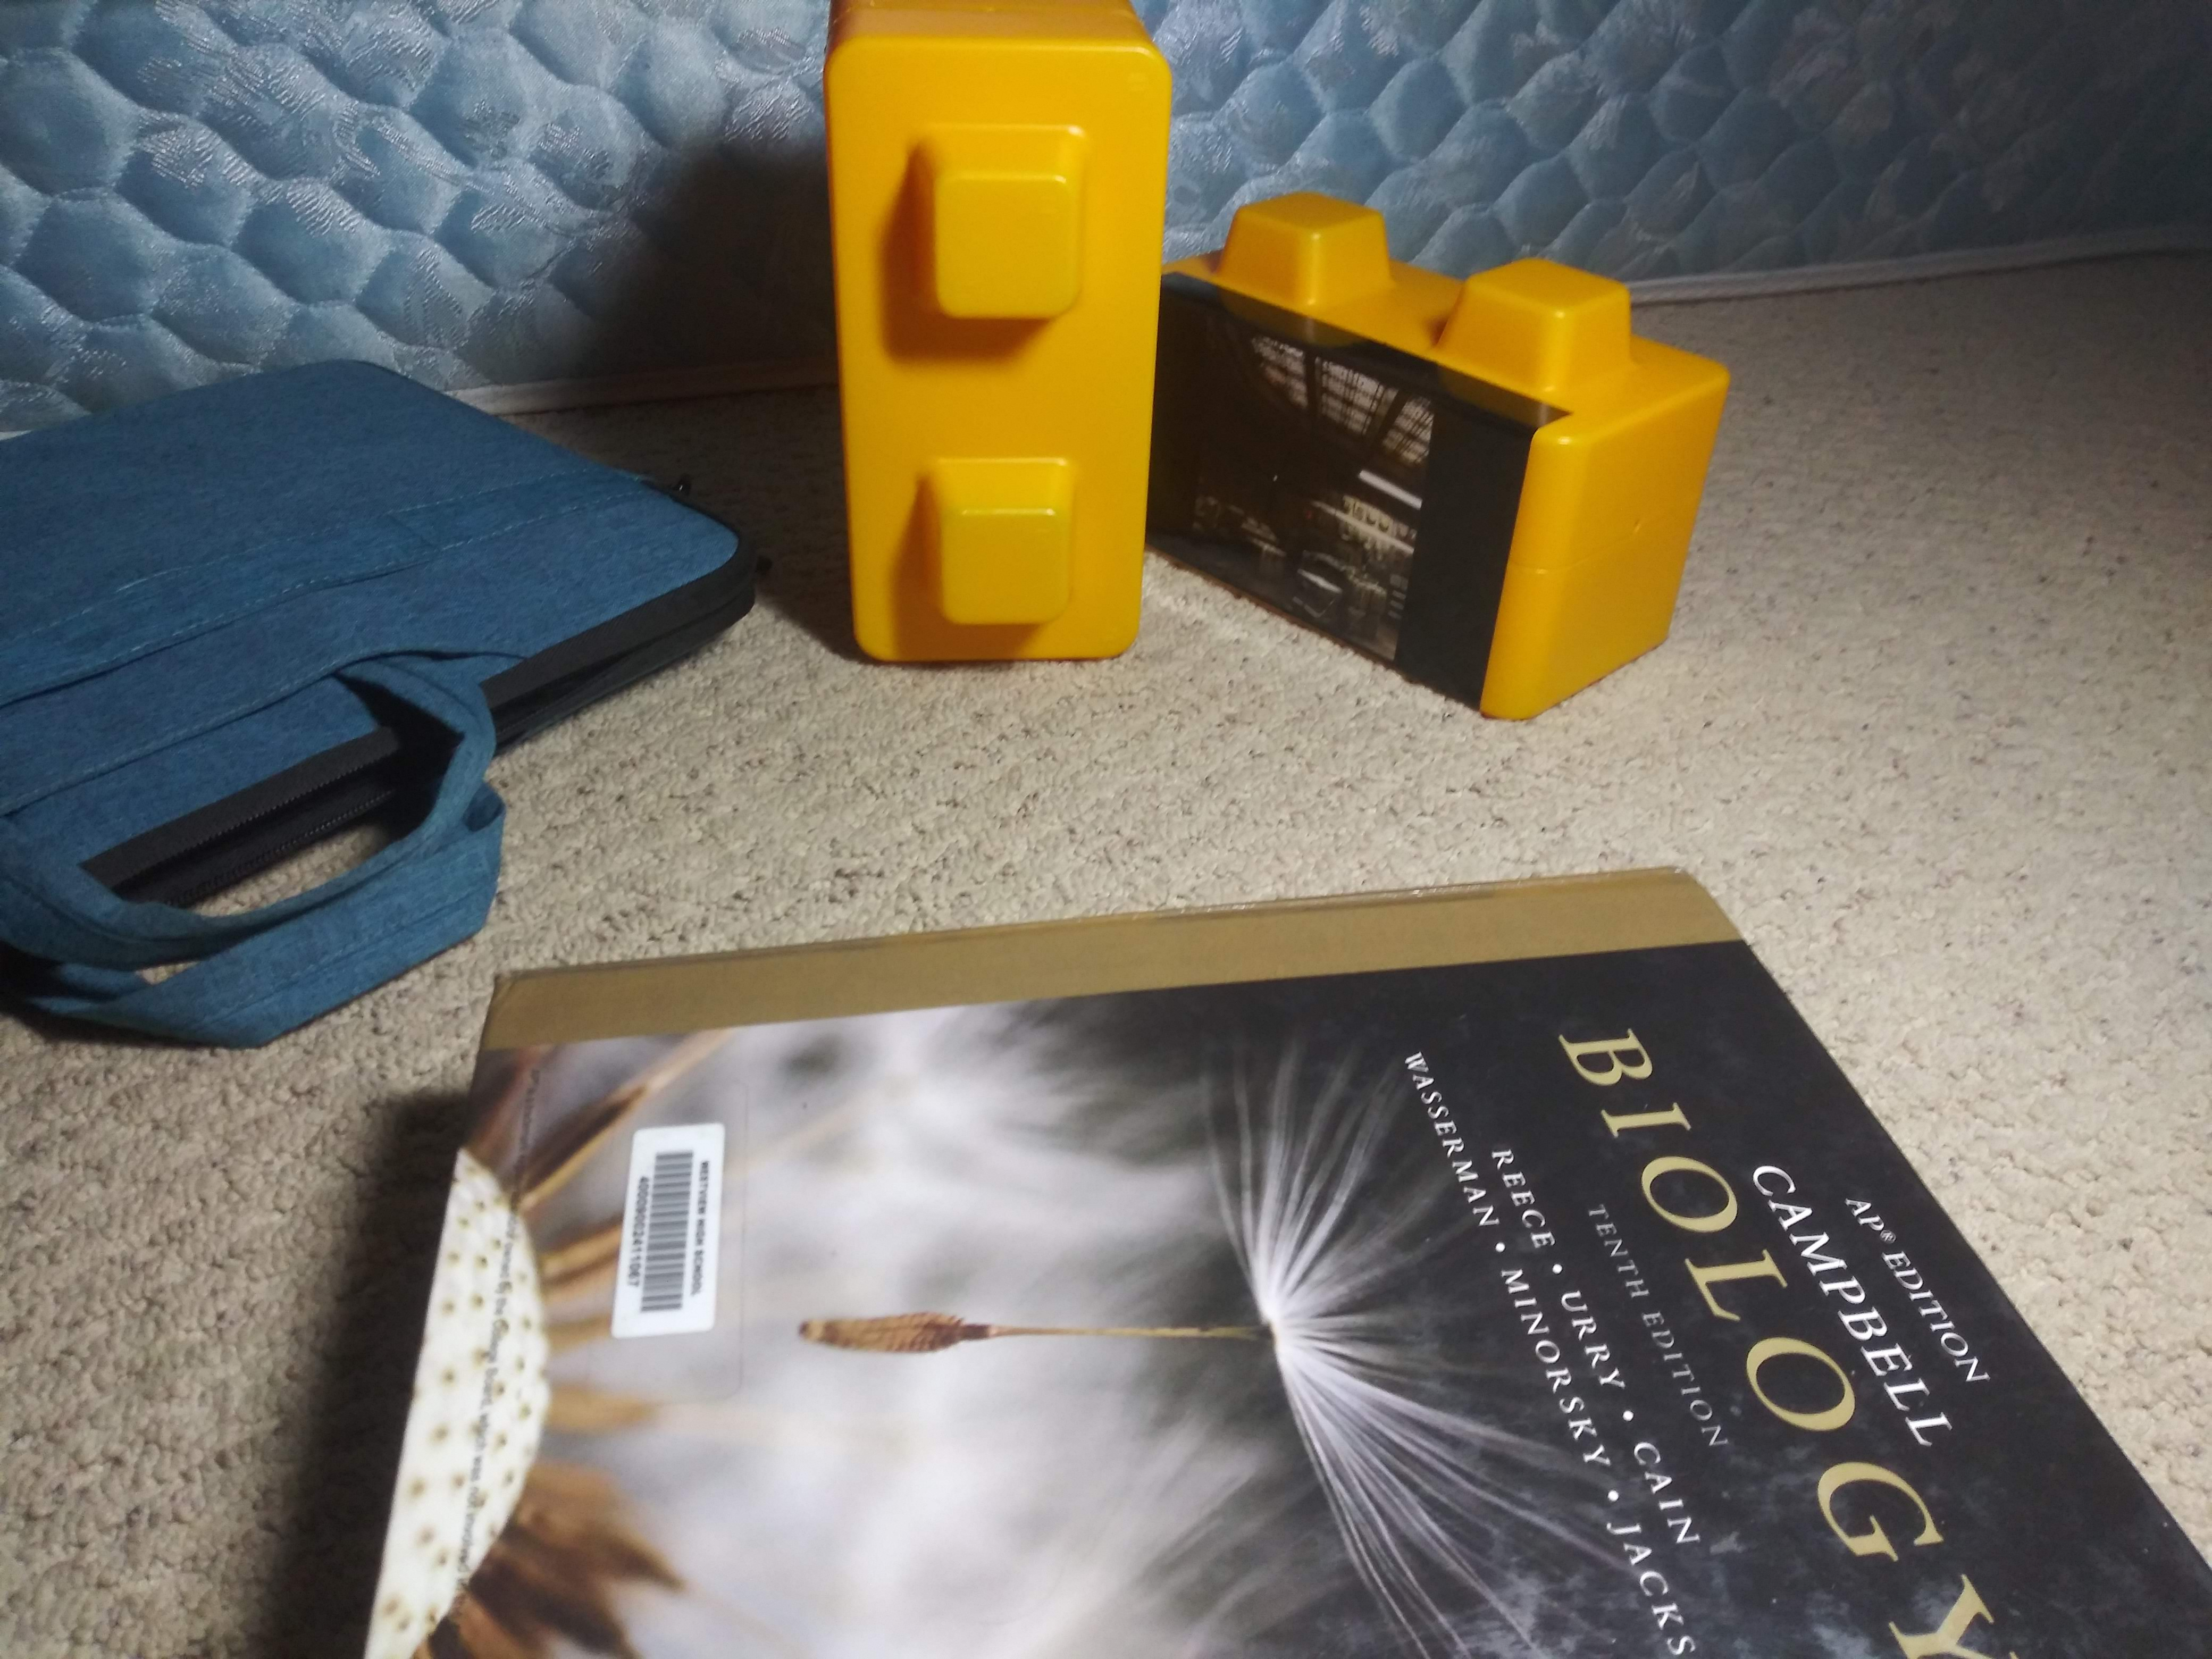skystone: (1174, 261, 1691, 702)
stone: (810, 35, 1158, 659)
